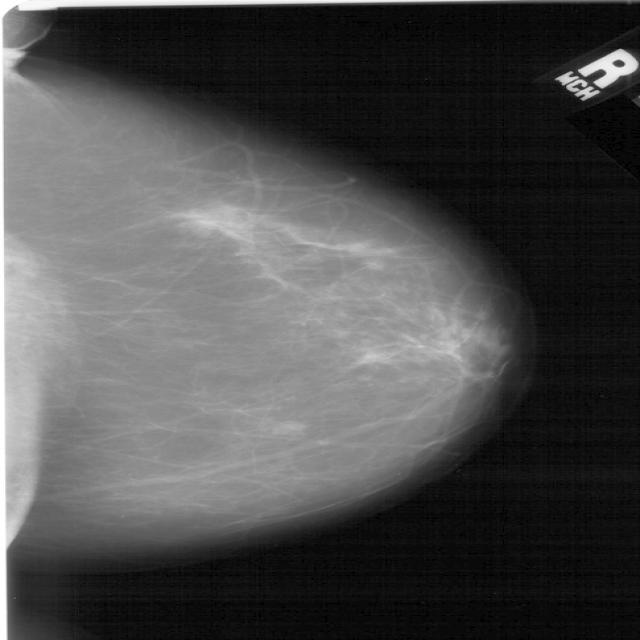tumour: (276, 420, 309, 434)
